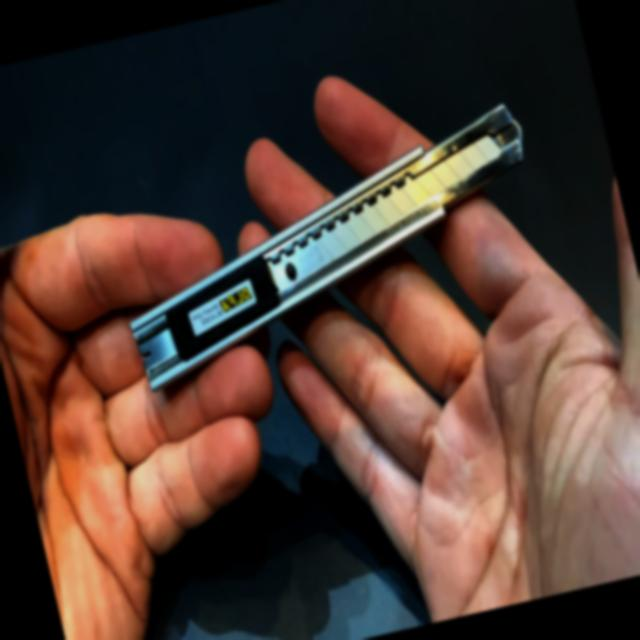cutter: (0, 8, 640, 619)
